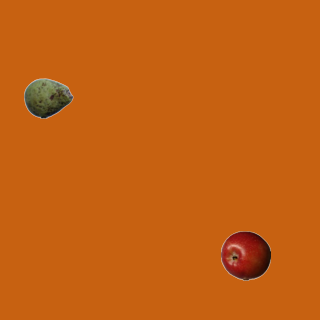Apple Braeburn: (220, 230, 270, 280)
Pear Stone: (23, 73, 73, 123)
